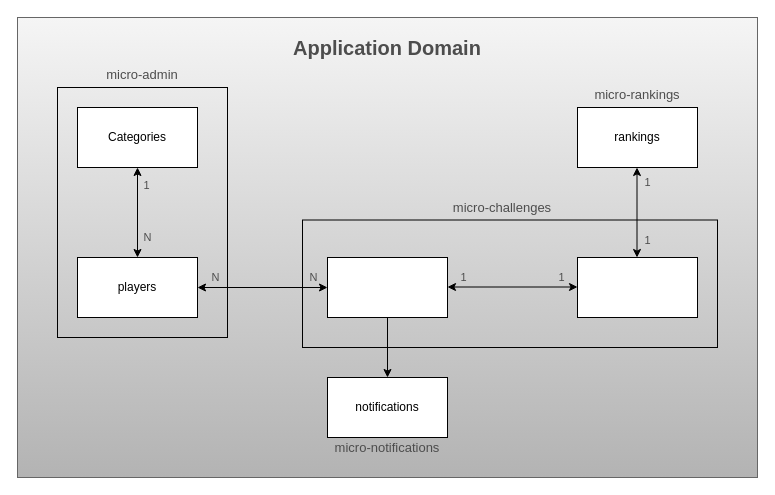
Image size: 775x495. Some labels were removed from this diagram. Each missing label, with the centre of its shape:
challenges: point (387, 287)
matches: point (637, 287)
